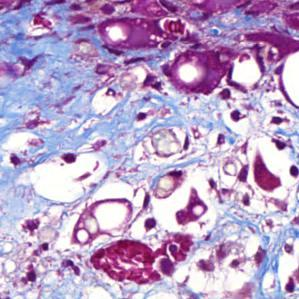steatosis: (178, 63, 200, 86)
